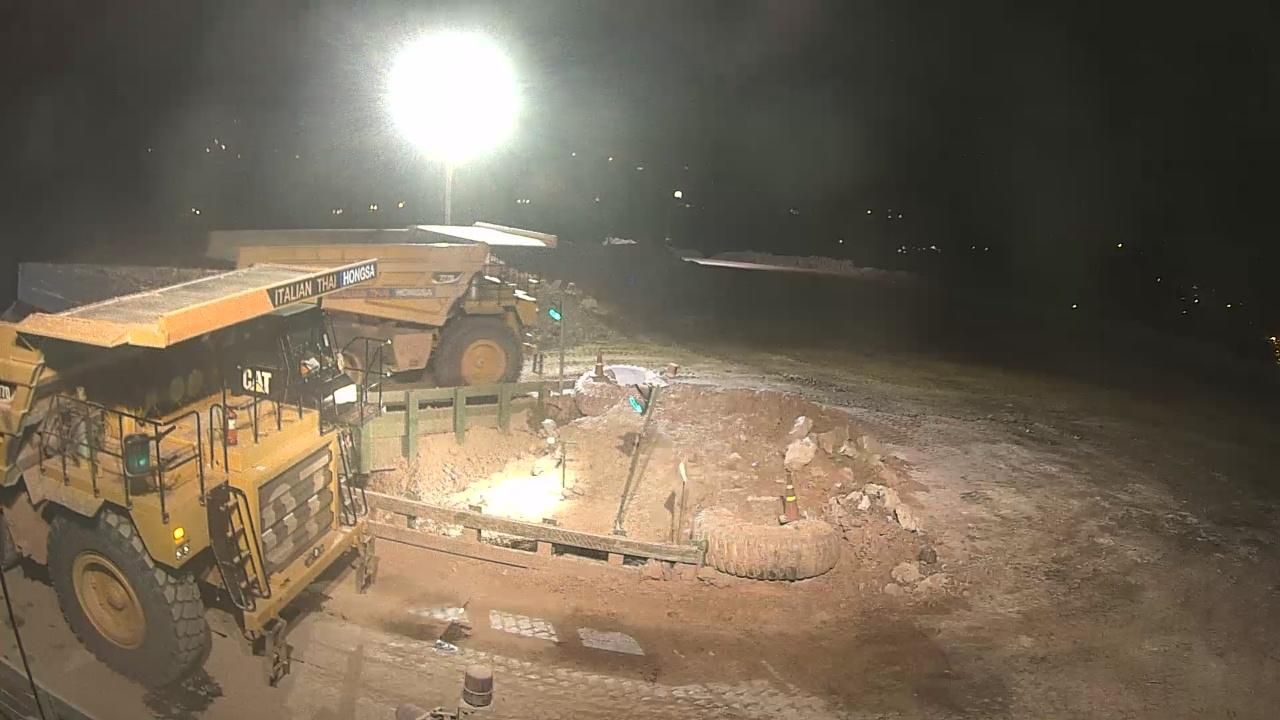front_number: (251, 453, 333, 564)
mining_truck: (1, 254, 388, 689), (190, 200, 589, 387)
